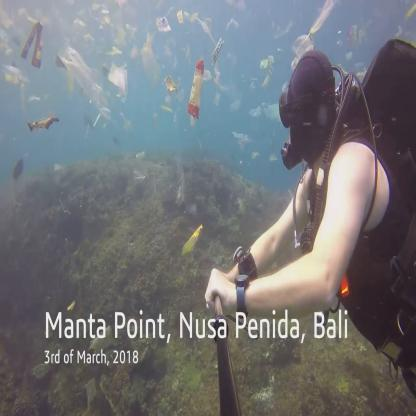Rác: (60, 45, 111, 125), (20, 16, 48, 70), (74, 8, 127, 35), (188, 53, 206, 121), (139, 41, 164, 89), (103, 63, 133, 100), (27, 108, 63, 138), (261, 56, 275, 90), (211, 36, 228, 63), (155, 13, 174, 33), (235, 130, 251, 148), (166, 75, 178, 95), (134, 165, 147, 183), (270, 156, 280, 165)
